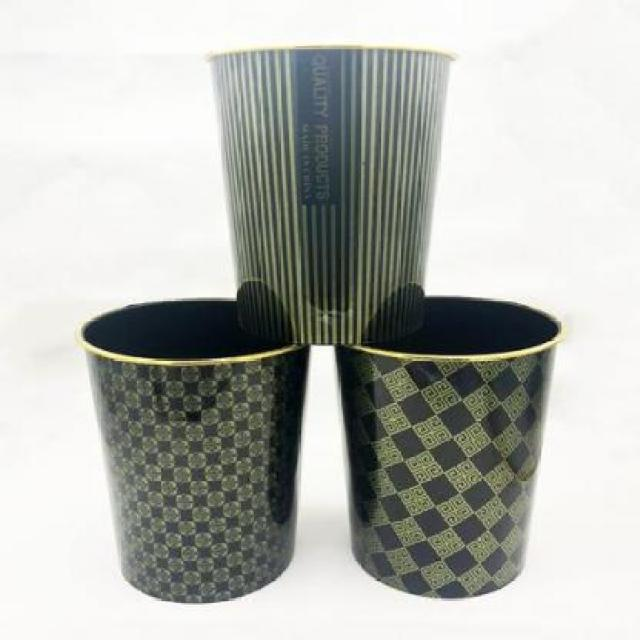dustbin: (202, 40, 462, 345), (72, 292, 316, 608), (331, 292, 567, 603)
